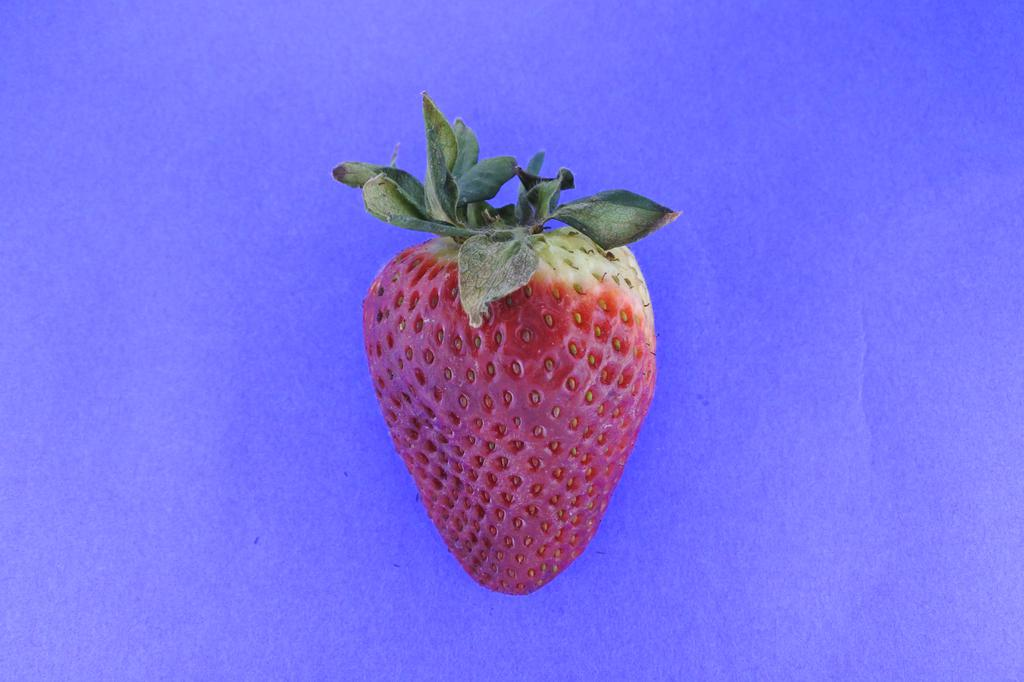red strawberry: (331, 92, 686, 597)
